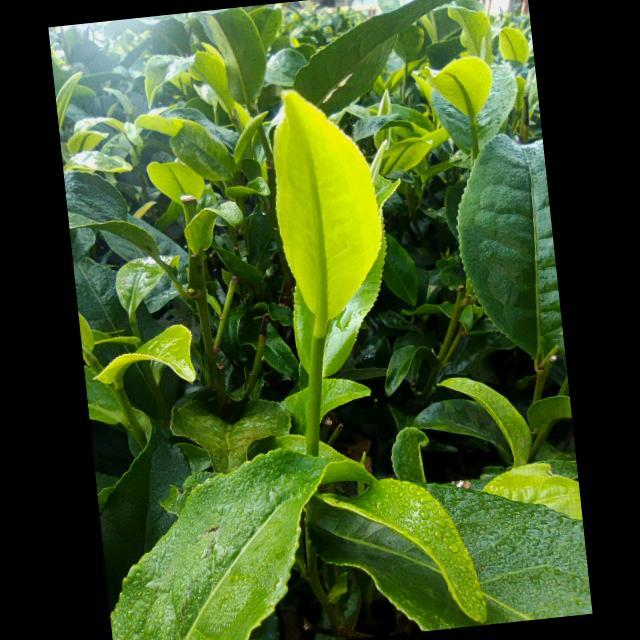Stem: (312, 335, 325, 358)
